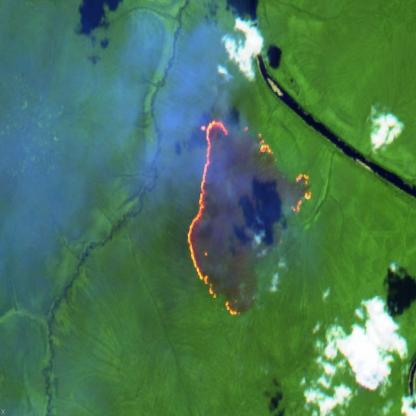fire: (185, 111, 313, 319)
